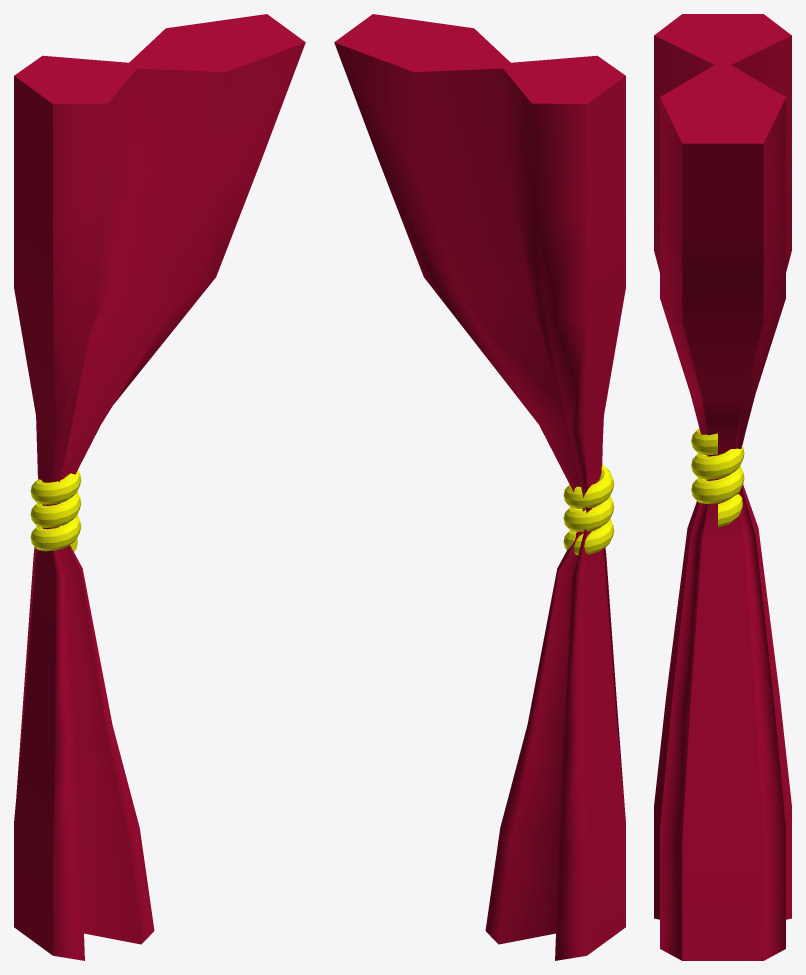
Rendered from Curtain.fbx.
The picture shows the model from 3 angles, left to right: view 1: azimuth 30°, elevation 25°; view 2: azimuth 150°, elevation 25°; view 3: azimuth 270°, elevation 25°; orthographic projection. The views are drawn at different scales.
Visible parts, largest first — view 1: pCube1, pHelix1; view 2: pCube1, pHelix1; view 3: pCube1, pHelix1.
Part boxes in pixels (bbox=[...]): pCube1: bbox=[14, 14, 305, 960]; pHelix1: bbox=[30, 470, 81, 551]; pCube1: bbox=[334, 14, 625, 960]; pHelix1: bbox=[563, 465, 614, 555]; pCube1: bbox=[654, 14, 791, 960]; pHelix1: bbox=[691, 428, 744, 527].
Bounding box in the file's own units: 1.84 × 5.89 × 0.8207.
